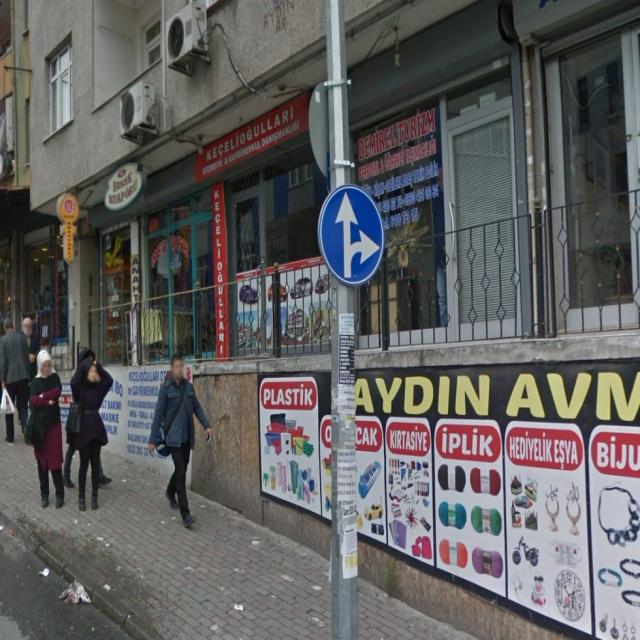ilerisag: (317, 184, 383, 284)
